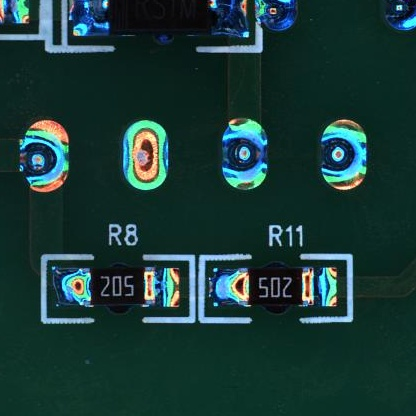spot: (220, 117, 268, 190), (320, 119, 368, 191), (23, 120, 69, 191), (124, 119, 168, 190), (261, 1, 298, 32), (386, 3, 416, 32)
